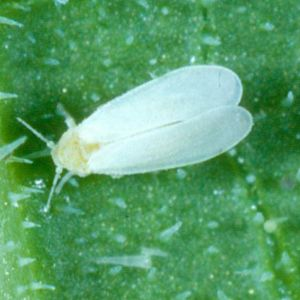whitefly: (14, 63, 254, 215)
